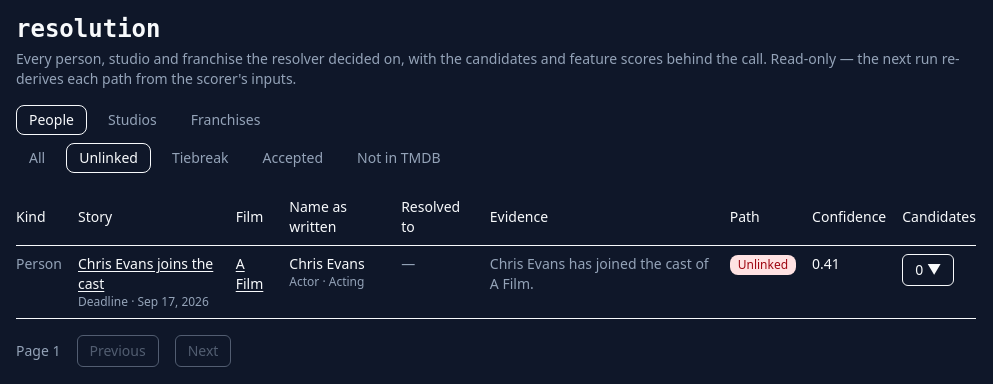
Test case: AdminResolution › opens on the person queue and narrows the request to one kind when a kind tab is picked
Expected: the text "Chris Evans" is shown, [289, 254, 365, 273]
Expected: the text "A24" is not shown
Click the tab "Studios". click: coordinates (132, 120)
box: [95, 105, 170, 135]
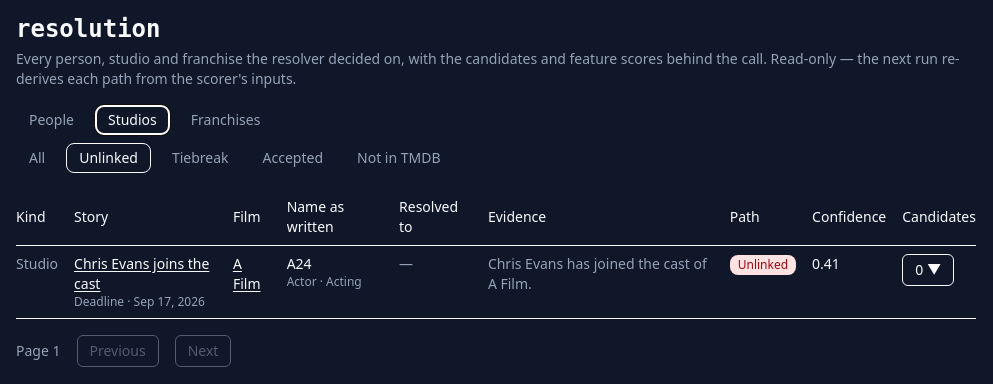
Result: the text "Studio" is shown at [16, 246, 74, 318]
Click the tab "Franchises". click: coordinates (226, 120)
box: [178, 105, 273, 135]
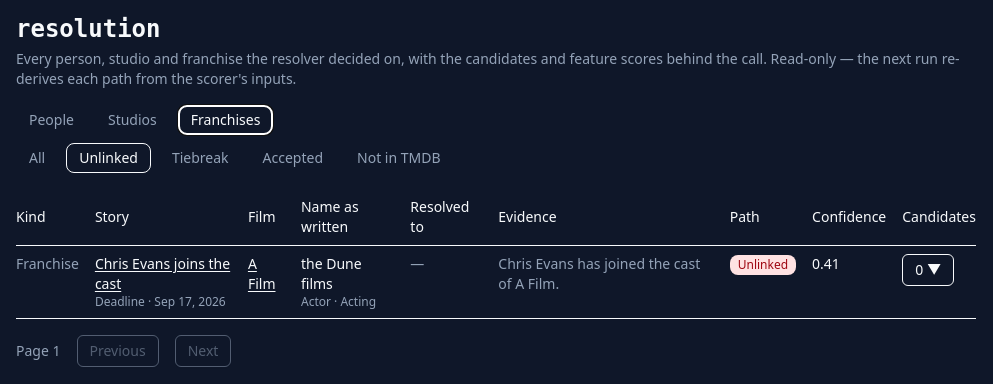
Result: the text "Franchise" is shown at [16, 246, 95, 318]
Result: the text "A24" is gone
